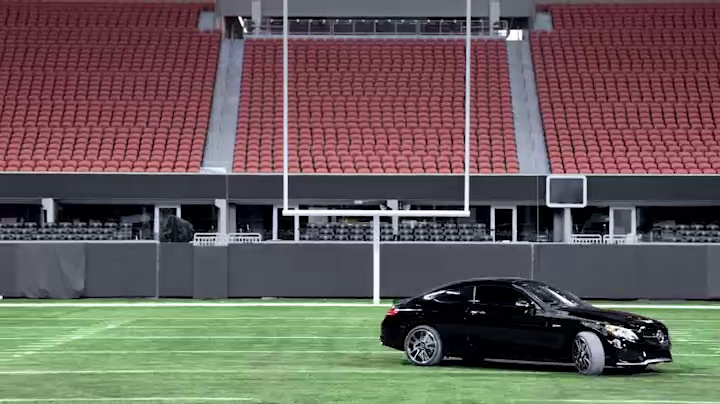amg: (376, 276, 676, 376)
